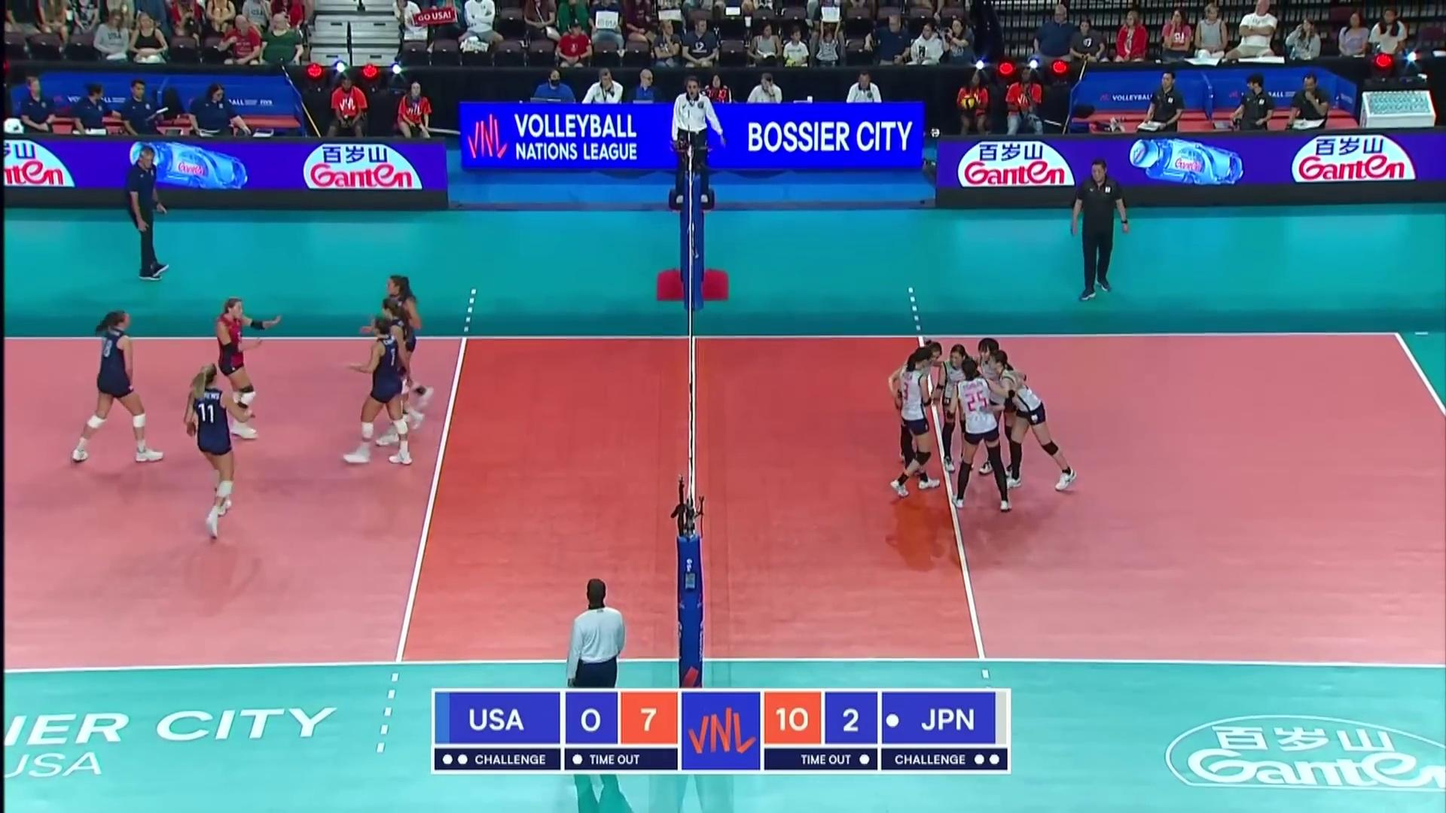player: (74, 310, 161, 468), (180, 365, 255, 546), (189, 300, 275, 444), (345, 311, 422, 469), (989, 350, 1077, 488), (362, 273, 434, 422), (935, 339, 997, 476), (954, 359, 1007, 512), (374, 297, 426, 447), (893, 344, 941, 497), (973, 337, 1021, 476), (897, 340, 944, 475)
refree: (563, 573, 627, 783), (666, 74, 726, 203)
